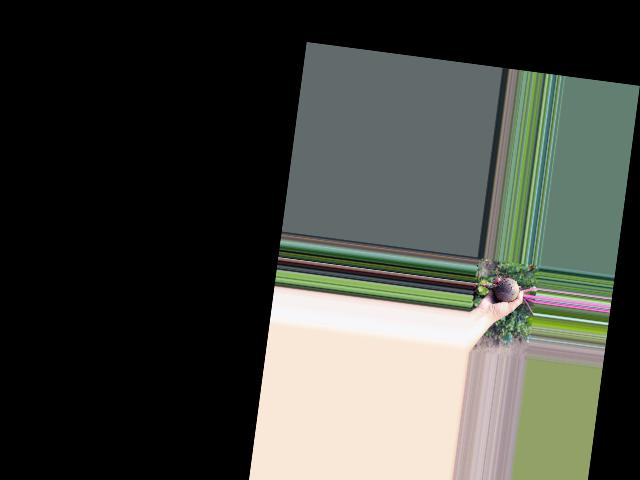beet: (470, 263, 539, 315)
